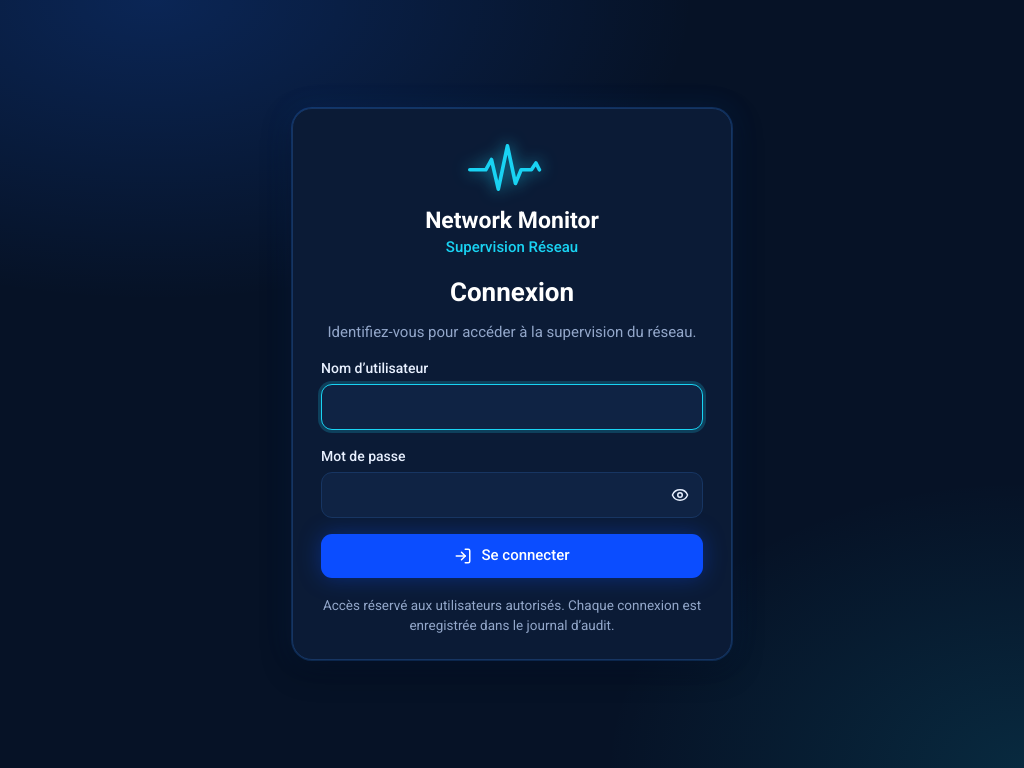
connexion › connecte l’utilisateur et ouvre le tableau de bord
Type " Admin " into the field labelled "Nom d’utilisateur" at (512, 407), box [321,384,703,430]
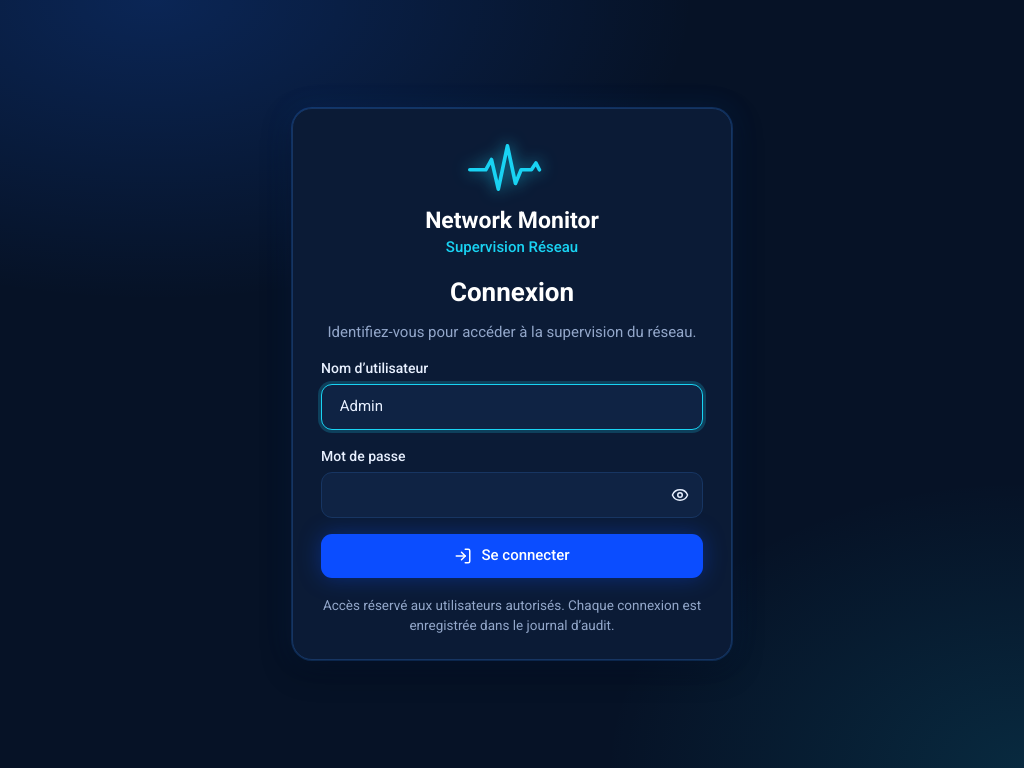
Type "secret-12345" into the password field labelled "Mot de passe" at (512, 495), box [321,472,703,518]
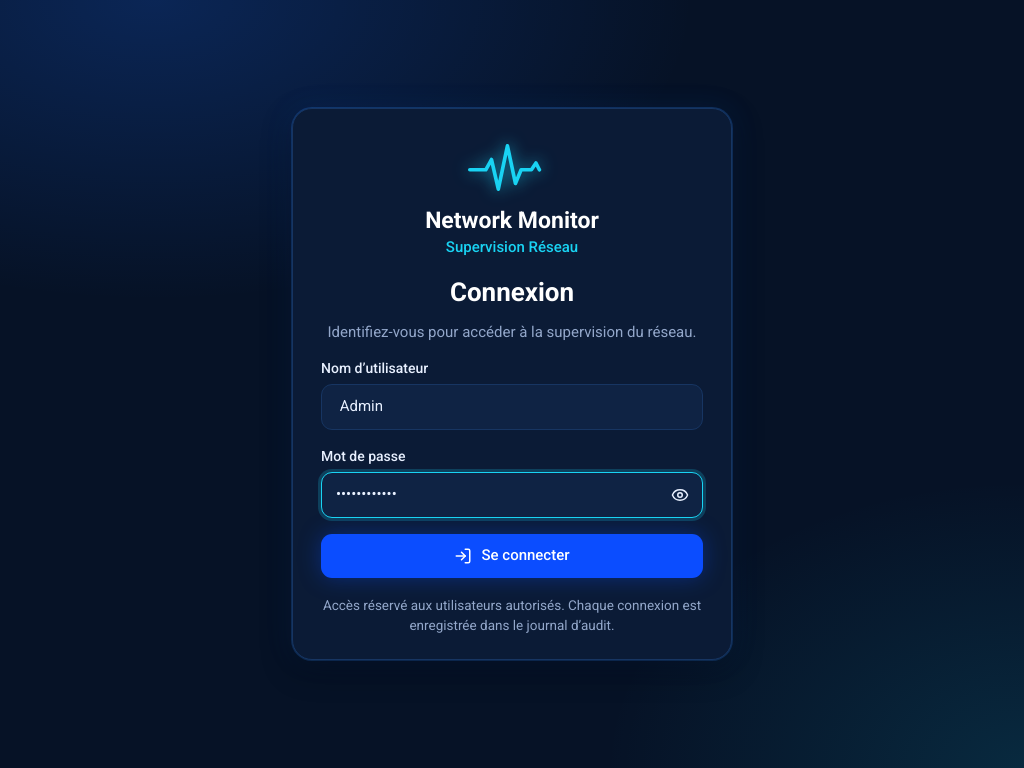
Click the button "Se connecter" at (512, 556), box [321,534,703,578]
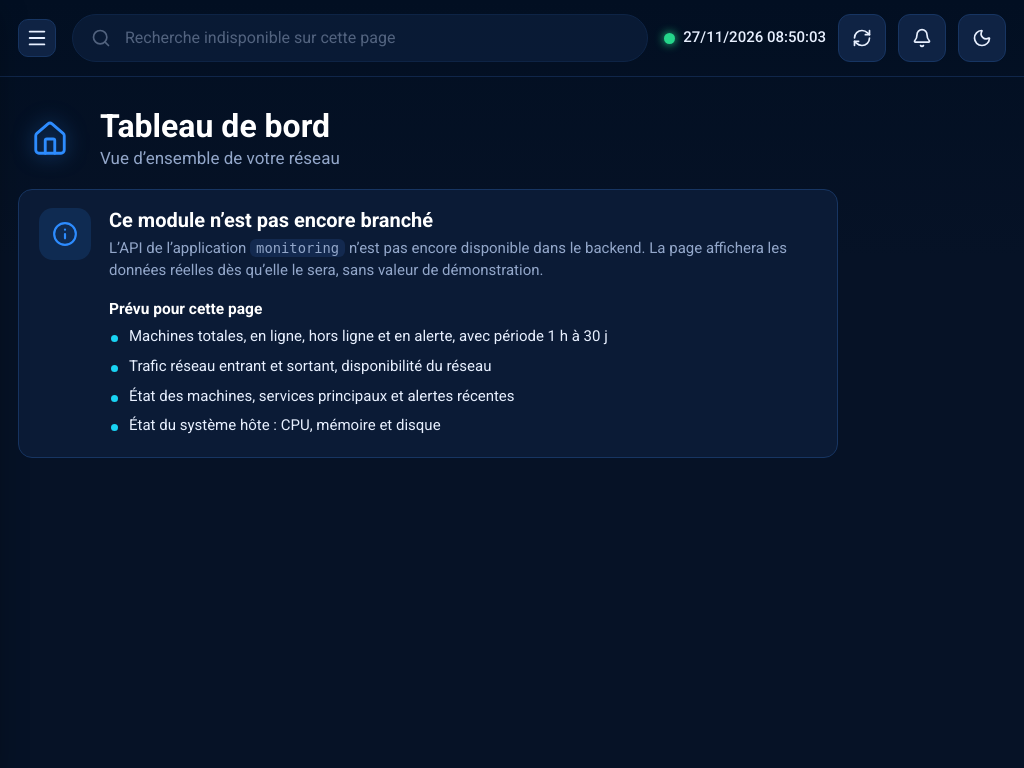
Expected: the heading "Tableau de bord" is shown, [100,108,340,146]
